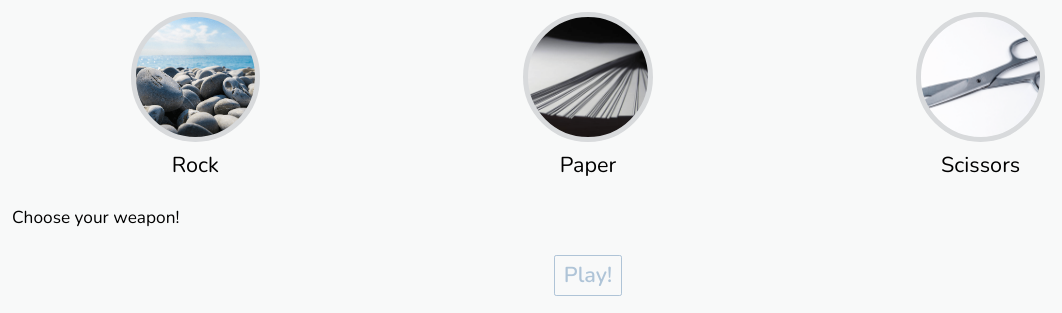
Test: Choice Area › should enable the play button, if an option is chosen
Step 1. Click the button "Paper" → click(588, 96), box [523, 12, 653, 180]
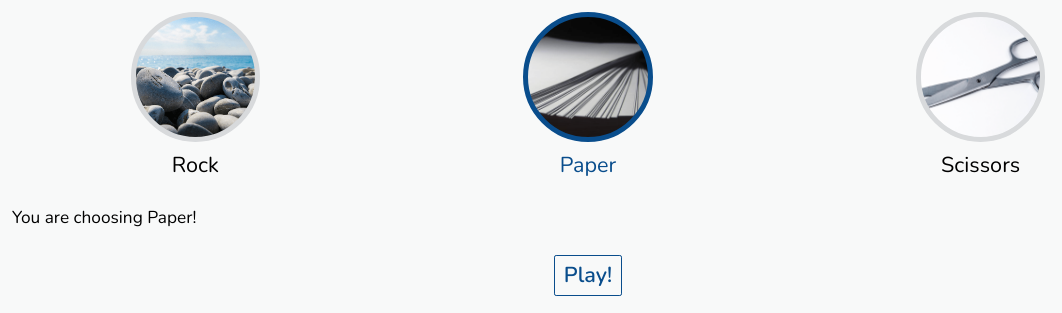
Expected: the button "Play!" is enabled, [554, 255, 622, 296]
